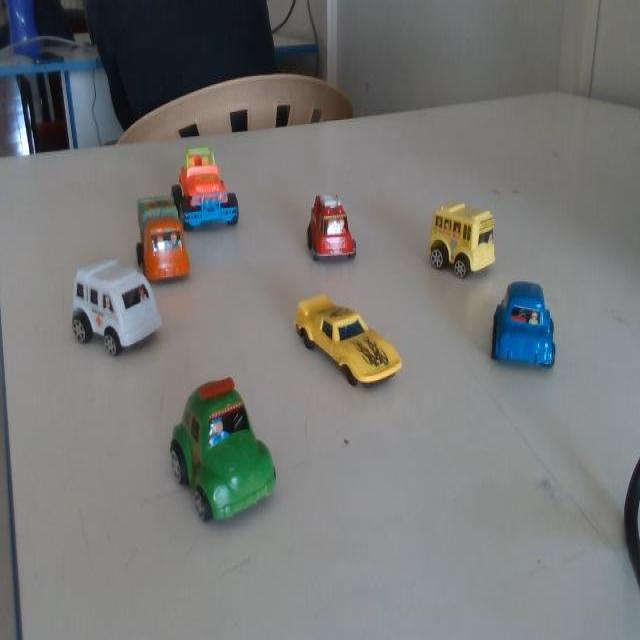car: (156, 378, 283, 530), (68, 248, 166, 370), (290, 290, 403, 394), (175, 137, 251, 235), (488, 280, 561, 376), (132, 186, 191, 290), (419, 202, 492, 286), (297, 185, 358, 274)
